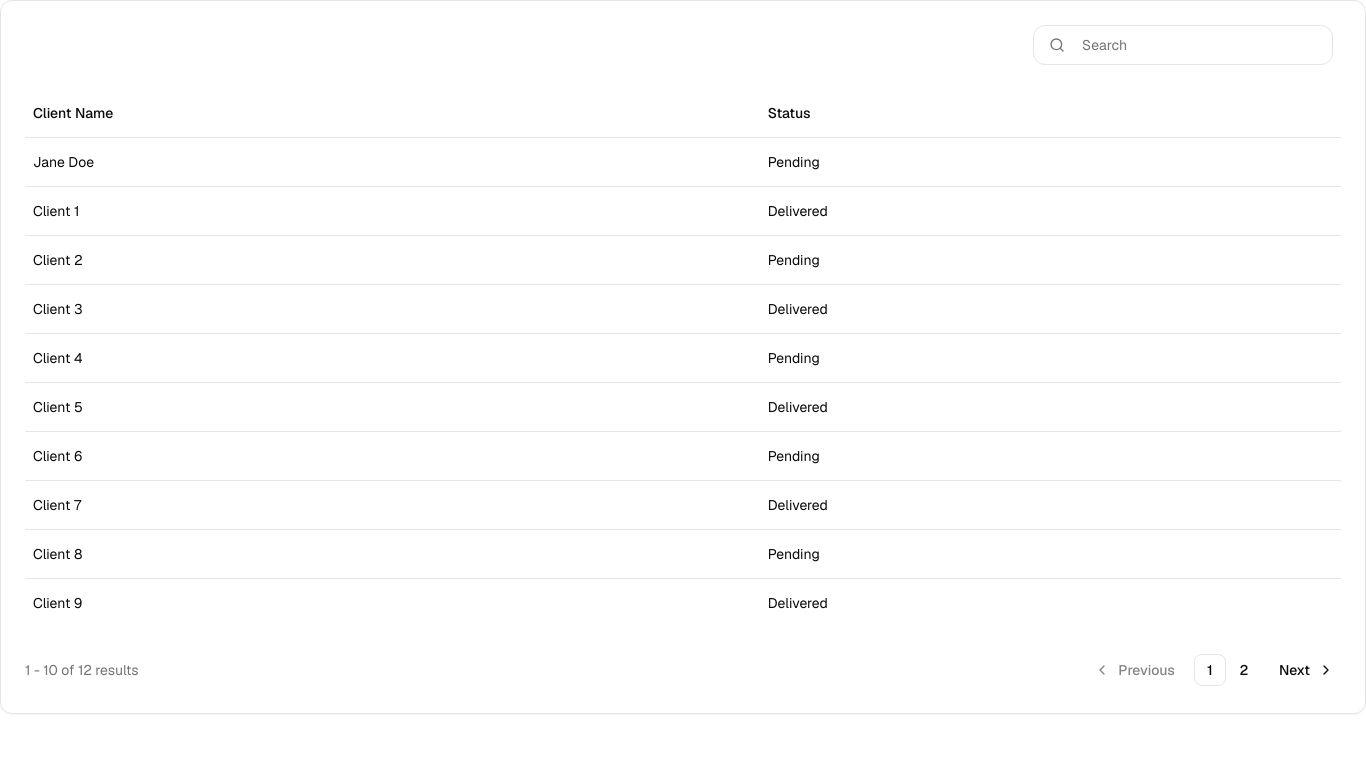
Scenario: DataTable › paginates rows once data exceeds the page size
The image size is (1366, 768).
Expected: the text "1 - 10 of 12 results" is shown, [25, 660, 139, 680]
Expected: the text "Client 11" is not shown
Click the button with aria-label "Go to next page" at (1301, 670), box [1262, 651, 1341, 689]
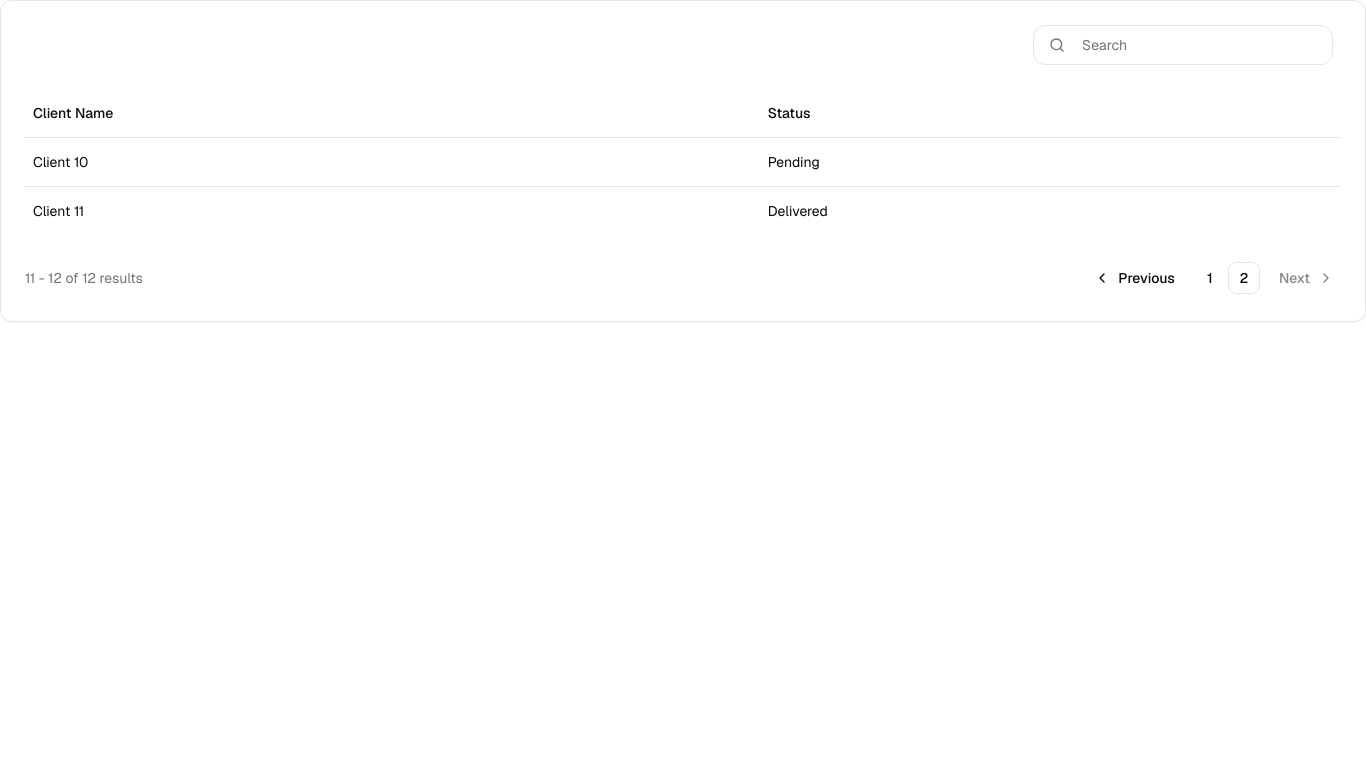
Expected: the text "11 - 12 of 12 results" is shown, [25, 268, 143, 288]
Expected: the text "Client 11" is shown, [25, 186, 760, 235]
